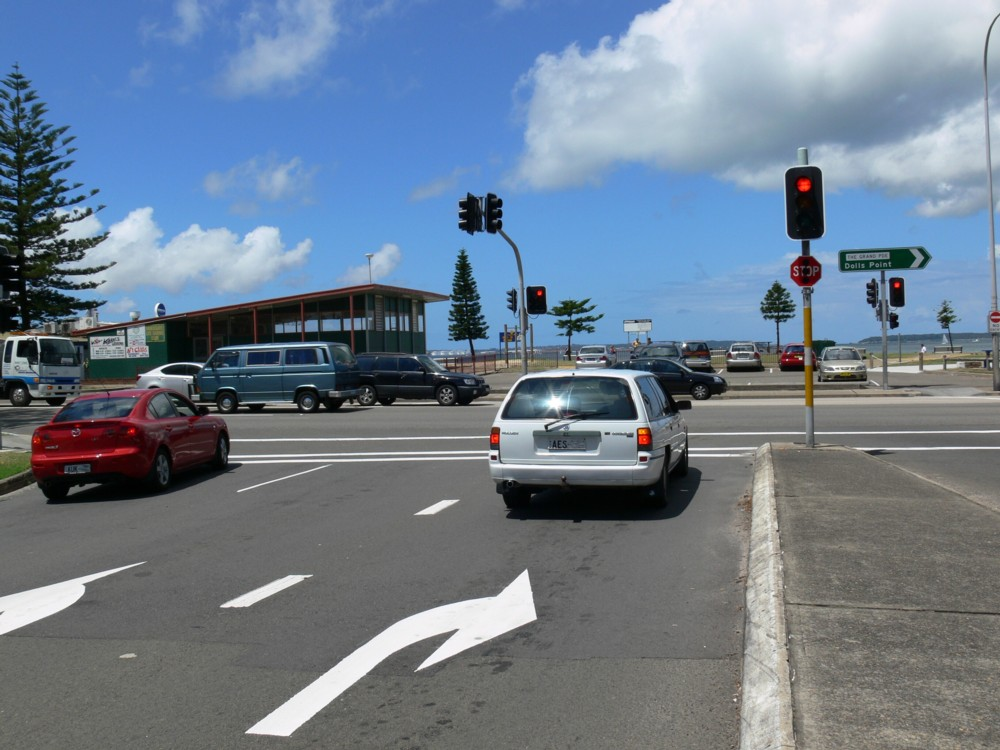traffic_light: (784, 164, 826, 241), (526, 286, 548, 315), (888, 276, 907, 308)
